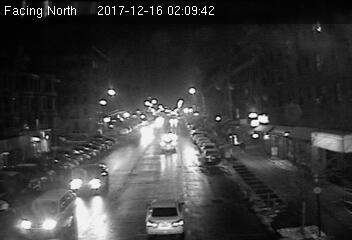car: (18, 188, 77, 233), (144, 199, 187, 234), (70, 165, 108, 194), (202, 148, 222, 166), (159, 137, 178, 153)
